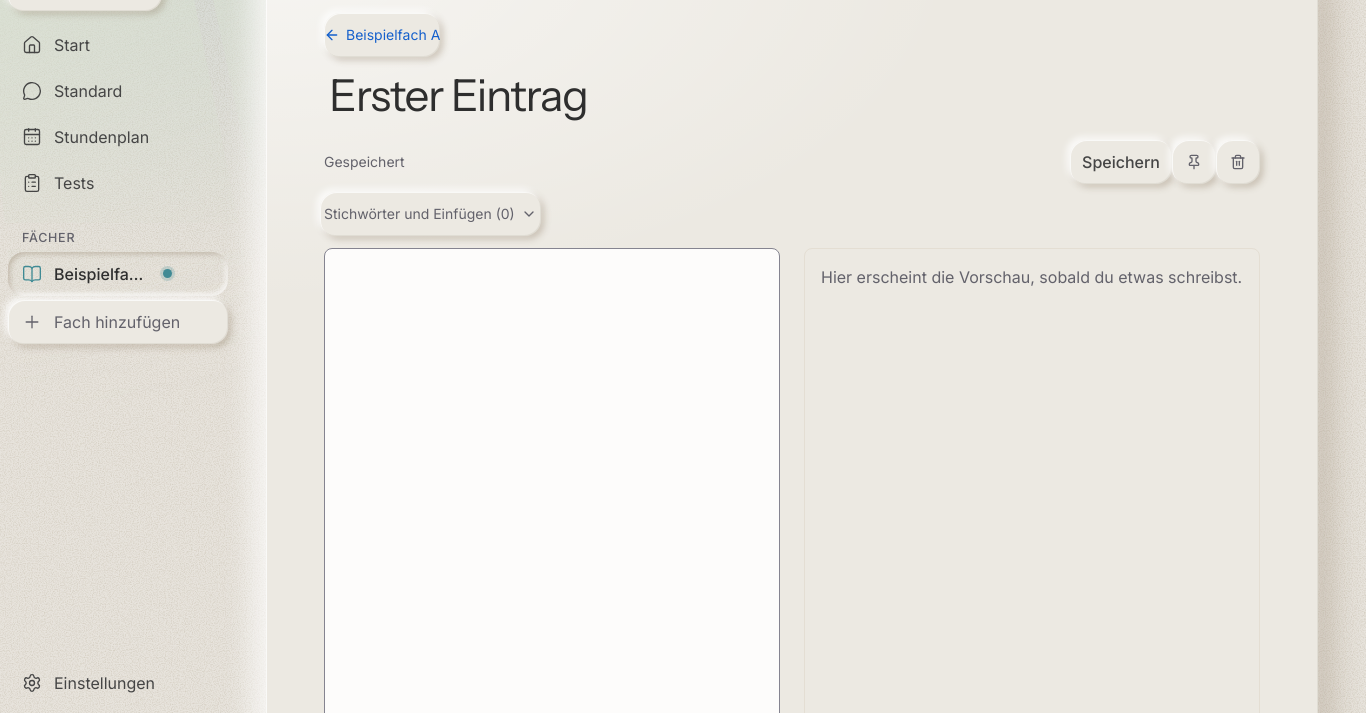
Test case: Rückweg aus dem Editor: Liste im Blick (M4-T017) › Zurück-Link: scrollIntoView aufs Ziel, Fokus auf der Liste
expect the 1st text box named "Titel" is shown: met, box x1=324 y1=65 x2=1260 y2=126
Step 1. Click the link with aria-label "Zurück zu den Hefteinträgen" → (382, 35), box x1=324 y1=13 x2=440 y2=57
(page scrolled)
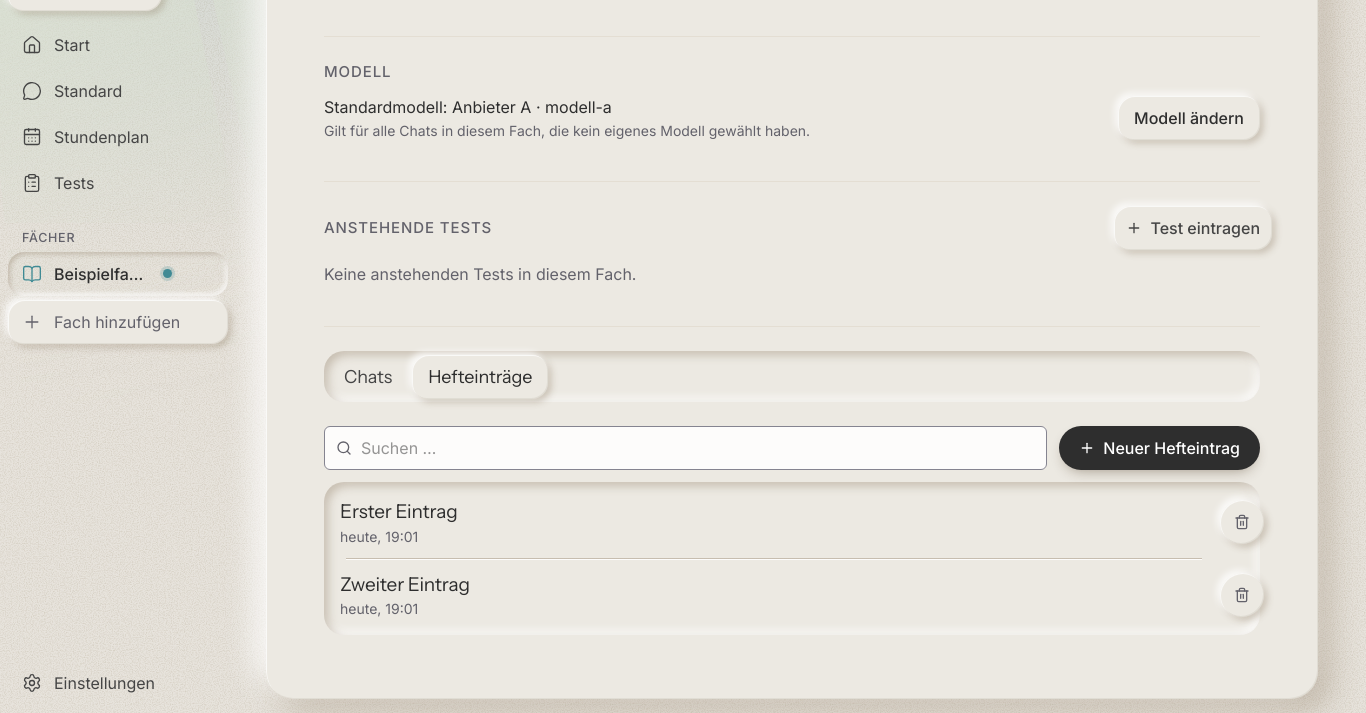
expect the text "Erster Eintrag" is shown: met, box x1=340 y1=498 x2=458 y2=527
